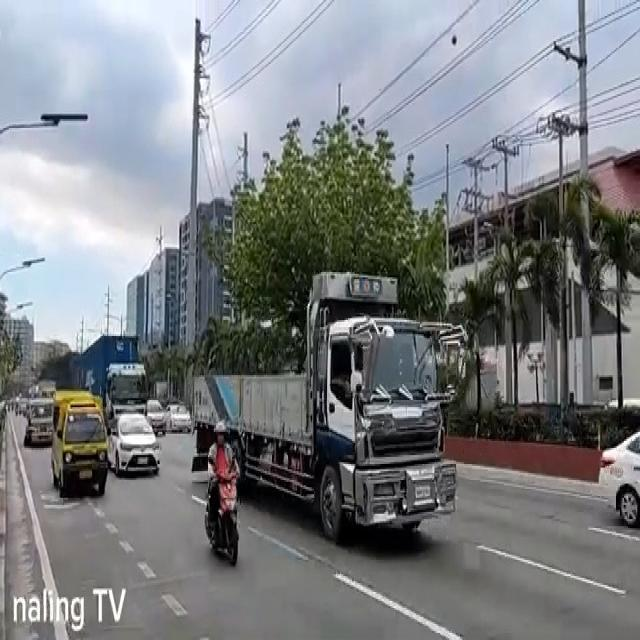bus: (51, 388, 108, 506)
car: (108, 414, 162, 482)
jeepney: (24, 396, 54, 449)
motorcycle: (202, 419, 242, 566)
truck: (193, 266, 460, 540), (74, 330, 148, 430)
